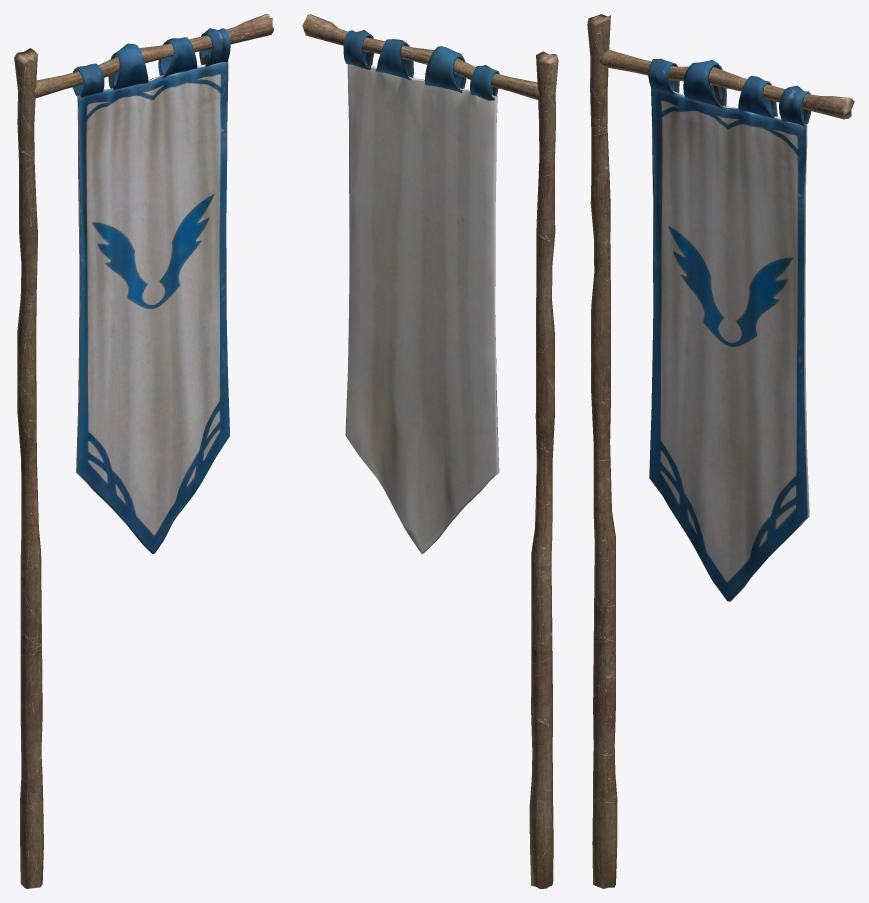
3 views of the same model, side by side, from view 1: azimuth 30°, elevation 25°; view 2: azimuth 150°, elevation 25°; view 3: azimuth 330°, elevation 25° (orthographic). The views are drawn at different scales.
Parts seen in each view (by area): view 1: SM_Single_Banner_Armadyl_02v2_LOD0; view 2: SM_Single_Banner_Armadyl_02v2_LOD0; view 3: SM_Single_Banner_Armadyl_02v2_LOD0.
Boxes of the visible parts, box(x1,y1,x2,y2) form: SM_Single_Banner_Armadyl_02v2_LOD0: box(14, 14, 273, 888); SM_Single_Banner_Armadyl_02v2_LOD0: box(302, 14, 558, 888); SM_Single_Banner_Armadyl_02v2_LOD0: box(587, 14, 854, 888).
Bounding box in the file's own units: 1.39 × 4.39 × 0.1565.
2 materials, 2 textured.
